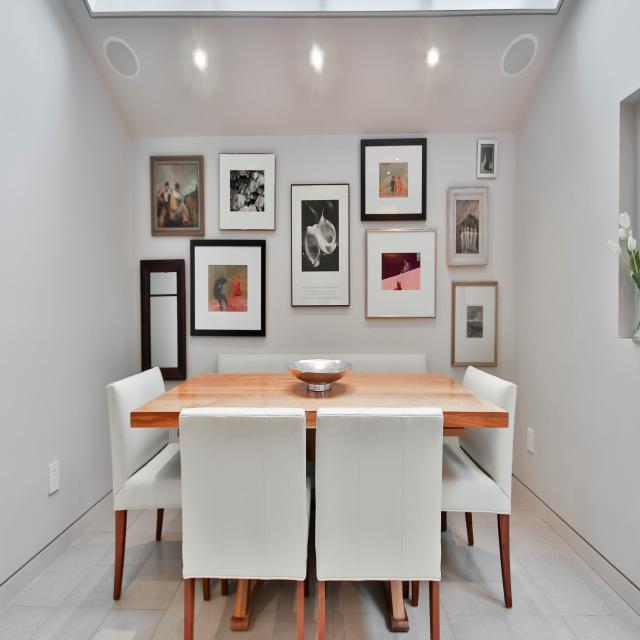floor: (440, 474, 640, 640), (0, 504, 184, 640), (193, 578, 298, 640), (325, 580, 431, 640), (304, 534, 318, 640)
